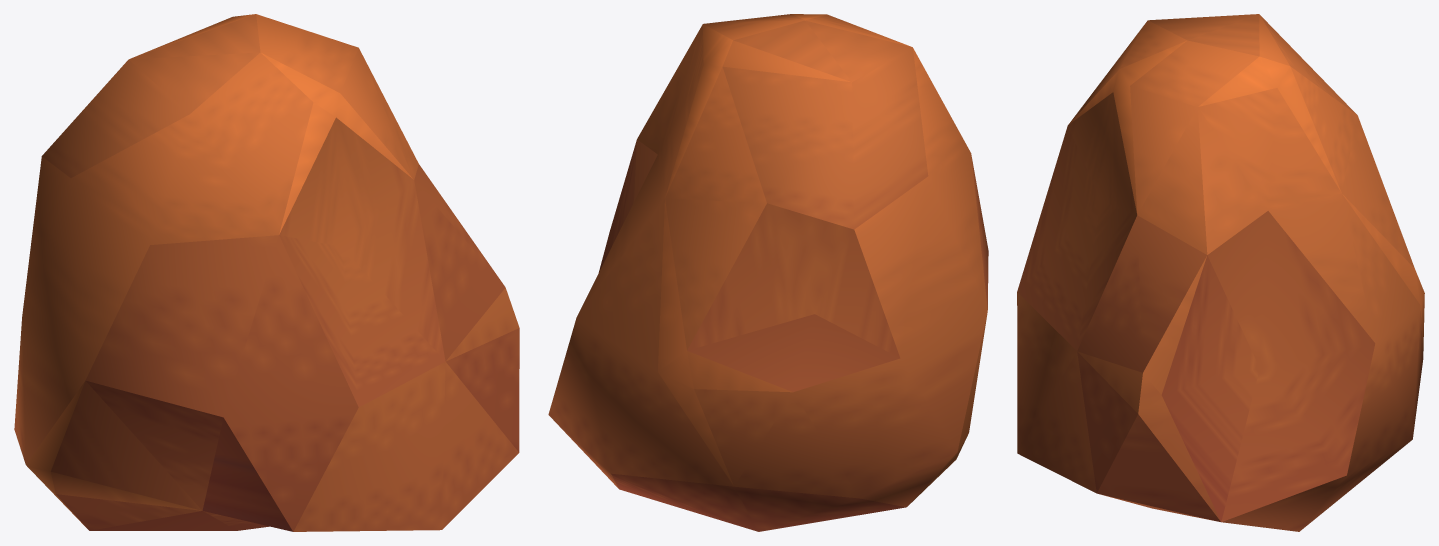
The model's file is Copper_Nugget_Large.gltf.
The picture shows the model from 3 angles, left to right: view 1: azimuth 30°, elevation 25°; view 2: azimuth 150°, elevation 25°; view 3: azimuth 270°, elevation 25°; orthographic projection. The views are drawn at different scales.
Parts seen in each view (by area): view 1: Copper_Nugget_Large; view 2: Copper_Nugget_Large; view 3: Copper_Nugget_Large.
Part boxes in pixels (x1=…): Copper_Nugget_Large: x1=14, y1=14, x2=519, y2=531; Copper_Nugget_Large: x1=548, y1=14, x2=988, y2=531; Copper_Nugget_Large: x1=1017, y1=14, x2=1424, y2=531.
Size of the model in its own units: 0.4271 by 0.4656 by 0.3947.
1 material, 1 textured.
